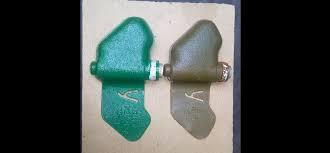PMF 1: (92, 16, 163, 142), (166, 17, 231, 140)
